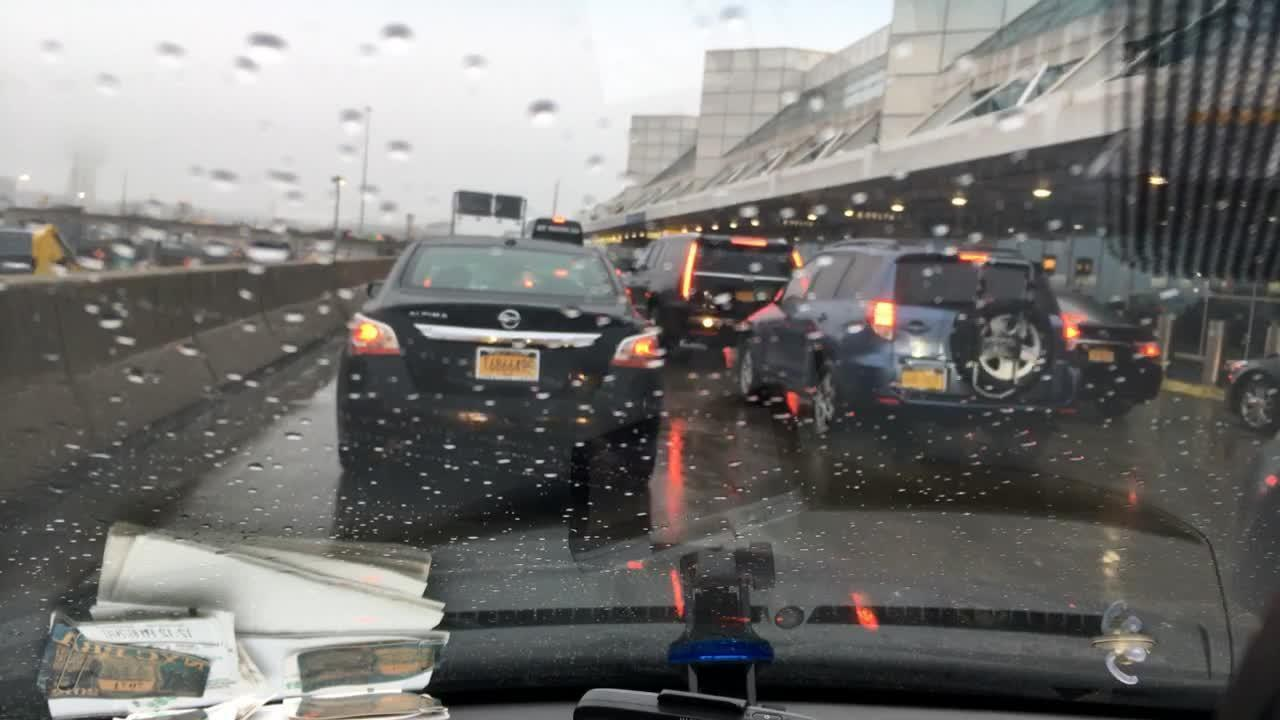Nissan: (486, 293, 532, 337)
